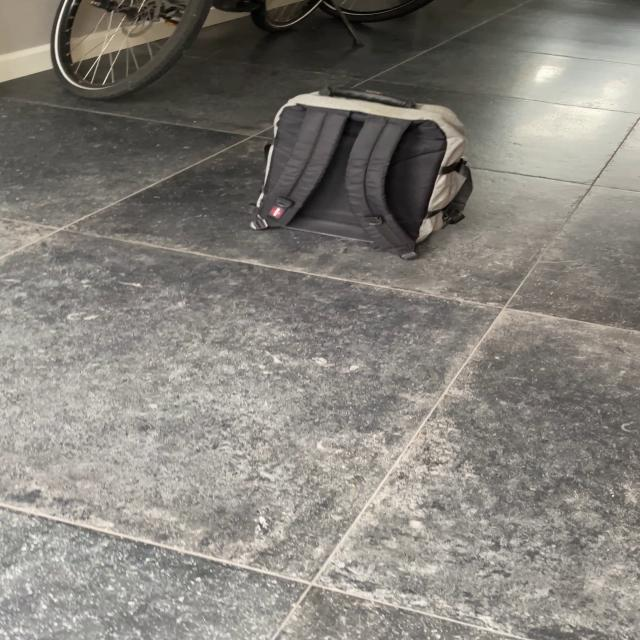backpack: (244, 83, 484, 257)
